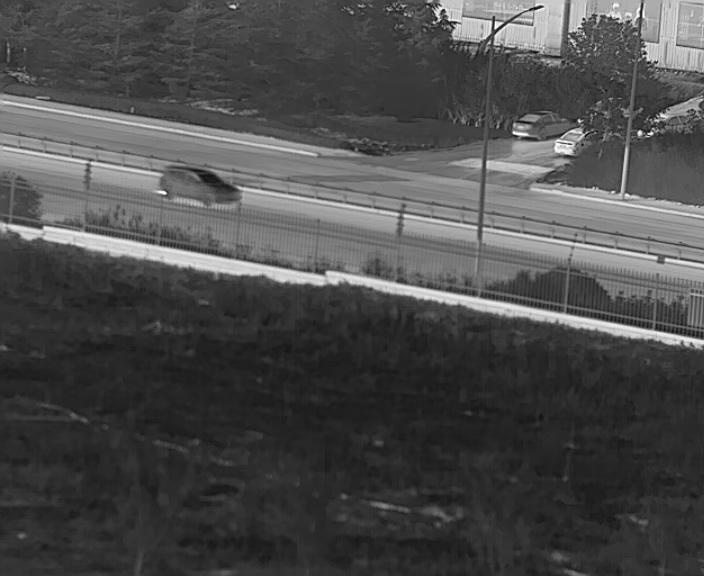vehicle: (159, 164, 241, 206), (510, 110, 563, 141), (555, 126, 587, 156)
